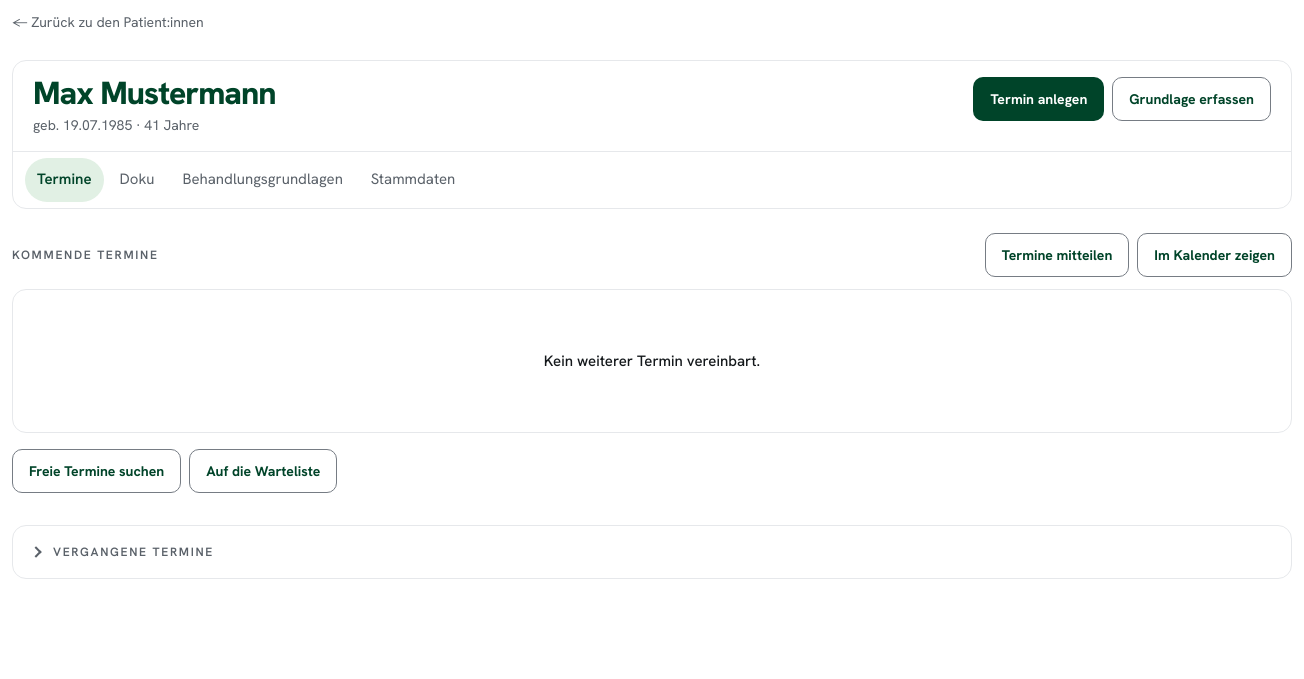
it: Rahmen der Patientenakte (AKTE-000) › Bereichsnavigation › wechselt den Bereich, ohne die Akte neu zu laden
Expected: the heading "Max Mustermann" is shown, [33, 77, 276, 111]
Click the link "Stammdaten" at (413, 179), box [371, 169, 455, 189]
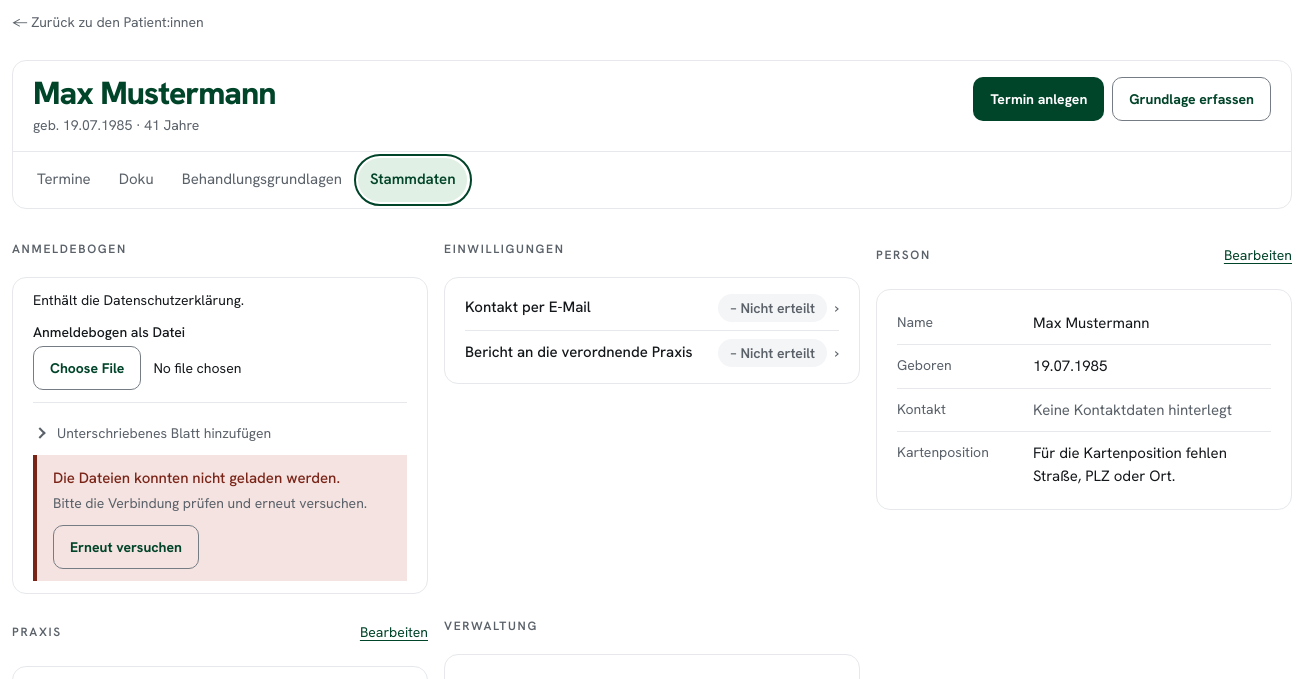
Expected: the heading "Max Mustermann" is shown, [33, 77, 276, 111]
Now the text "Kontakt" is shown, box [897, 400, 946, 418]
